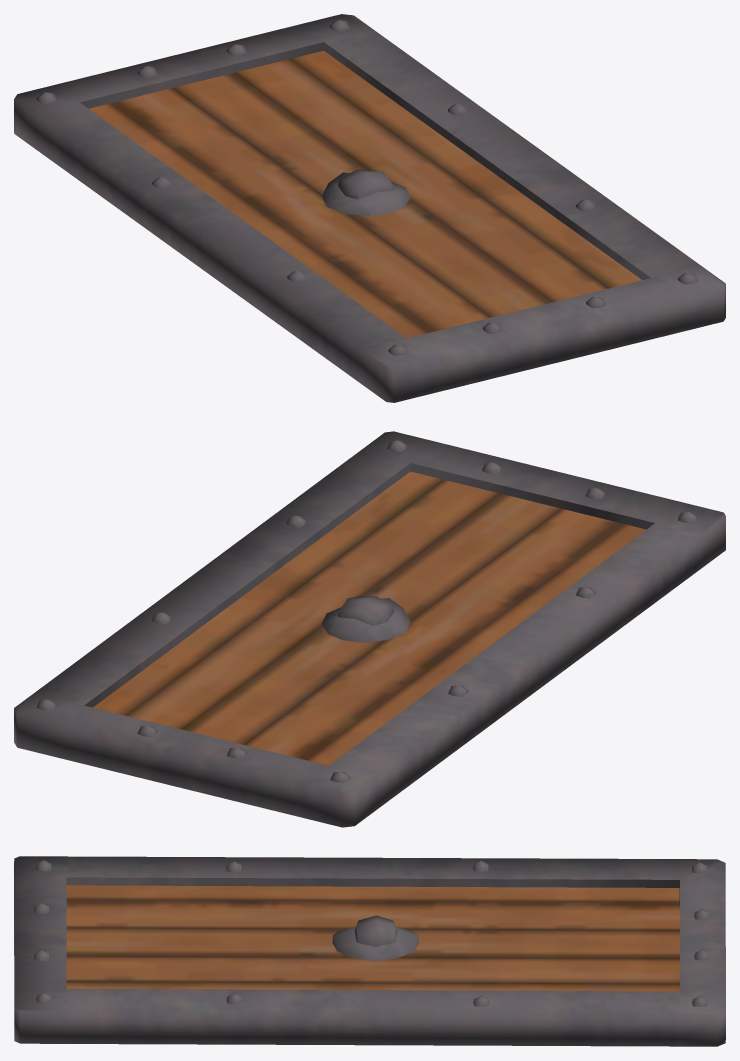
File: ShieldIronTower.fbx
The picture shows the model from 3 angles, top to bottom: view 1: azimuth 30°, elevation 25°; view 2: azimuth 150°, elevation 25°; view 3: azimuth 270°, elevation 25°; orthographic projection. The views are drawn at different scales.
Visible parts, largest first — view 1: attach; view 2: attach; view 3: attach.
Part boxes in pixels (x1,y1,x2,y2): attach: (14, 14, 725, 402); attach: (14, 431, 725, 827); attach: (14, 856, 725, 1046).
Bounding box in the file's own units: 0.7086 × 0.1852 × 1.37.
Materials: 1 (1 with a texture image).
